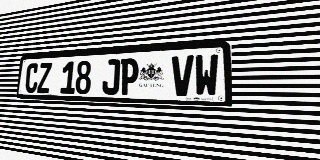1: (60, 61, 77, 94)
8: (75, 60, 92, 94)
C: (24, 63, 39, 93)
J: (102, 59, 120, 95)
P: (119, 58, 139, 95)
V: (171, 55, 194, 96)
W: (194, 54, 219, 97)
Z: (37, 62, 52, 93)
